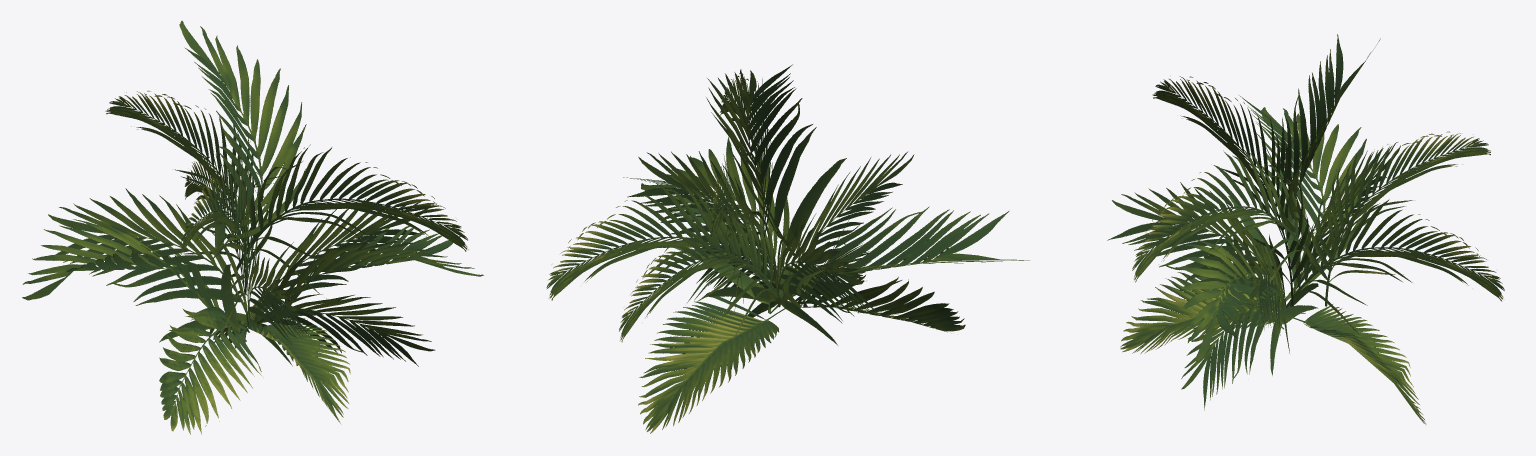
The model's file is PalmBig.fbx.
3 renders of one model, left to right at view 1: azimuth 30°, elevation 25°; view 2: azimuth 150°, elevation 25°; view 3: azimuth 270°, elevation 25°, orthographic. The views are drawn at different scales.
Parts seen in each view (by area): view 1: PalmBig; view 2: PalmBig; view 3: PalmBig.
Part boxes in pixels (x1=…): PalmBig: x1=22, y1=20, x2=483, y2=434; PalmBig: x1=546, y1=64, x2=1029, y2=433; PalmBig: x1=1107, y1=34, x2=1504, y2=424.
Bounding box in the file's own units: 453 × 359 × 383.
